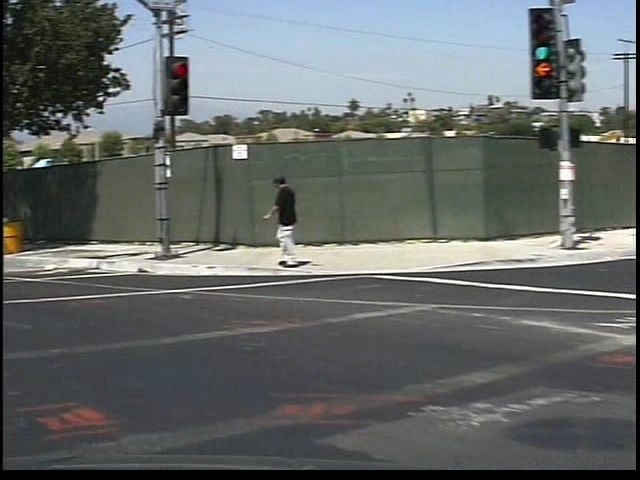person: (254, 170, 304, 285)
